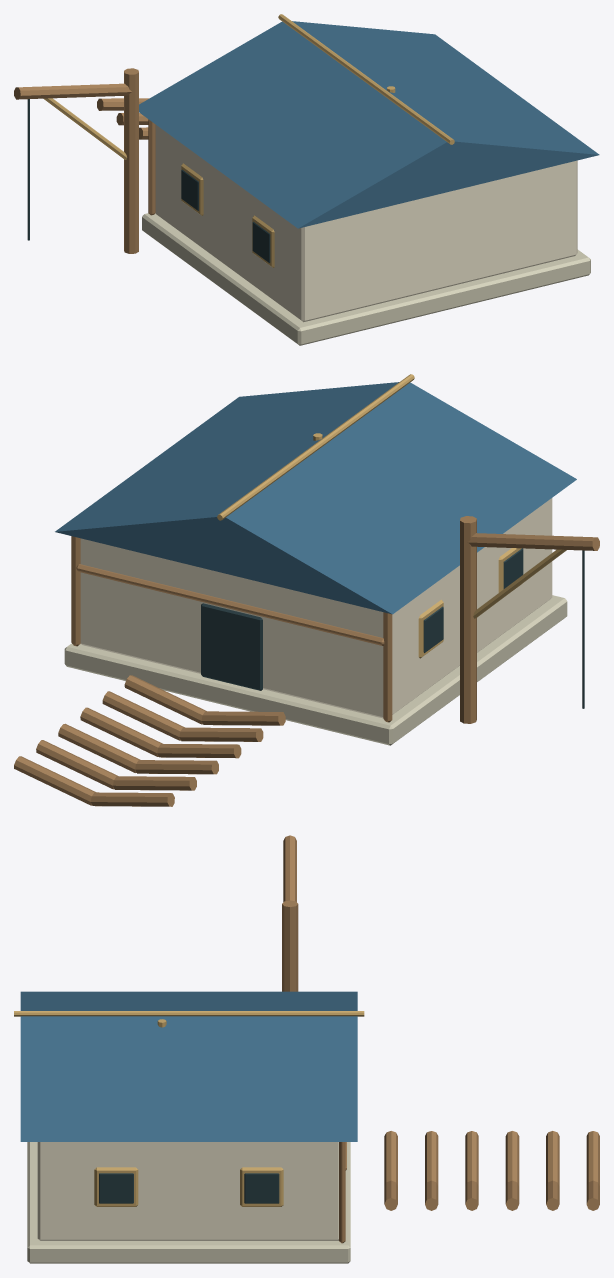
File: level_02.glb
3 views of the same model, one above another, from view 1: azimuth 30°, elevation 25°; view 2: azimuth 150°, elevation 25°; view 3: azimuth 270°, elevation 25° (orthographic). The views are drawn at different scales.
Visible parts, largest first — view 1: shipyard — level 02; view 2: shipyard — level 02; view 3: shipyard — level 02.
Part boxes in pixels (x1,y1,x2,y2): shipyard — level 02: (14,14,599,345); shipyard — level 02: (14,374,599,806); shipyard — level 02: (14,835,599,1263).
Bounding box in the file's own units: 7.91 × 3.42 × 8.7.
